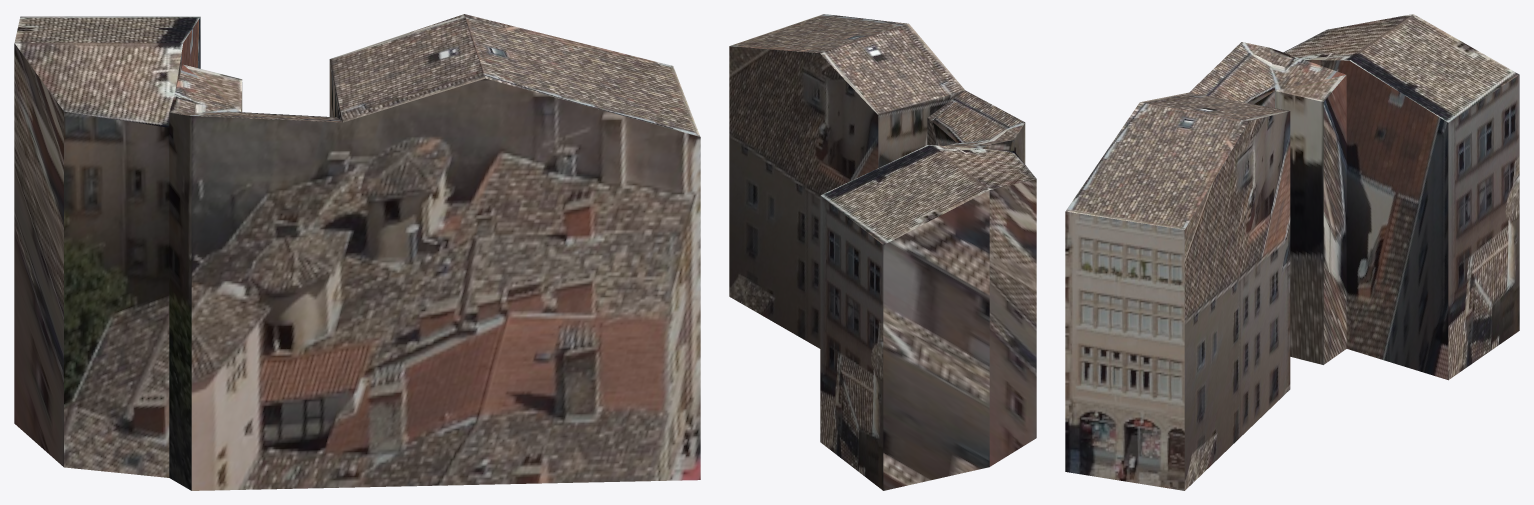
3 views of the same model, side by side, from view 1: azimuth 30°, elevation 25°; view 2: azimuth 150°, elevation 25°; view 3: azimuth 270°, elevation 25° (orthographic). The views are drawn at different scales.
Parts seen in each view (by area): view 1: Z_UP; view 2: Z_UP; view 3: Z_UP.
Boxes of the visible parts, box(x1,y1,x2,y2) form: Z_UP: box(14, 14, 700, 490); Z_UP: box(729, 14, 1036, 490); Z_UP: box(1065, 14, 1519, 490).
Size of the model in its own units: 28.2 by 21.21 by 28.32.
2 materials, 1 textured.
